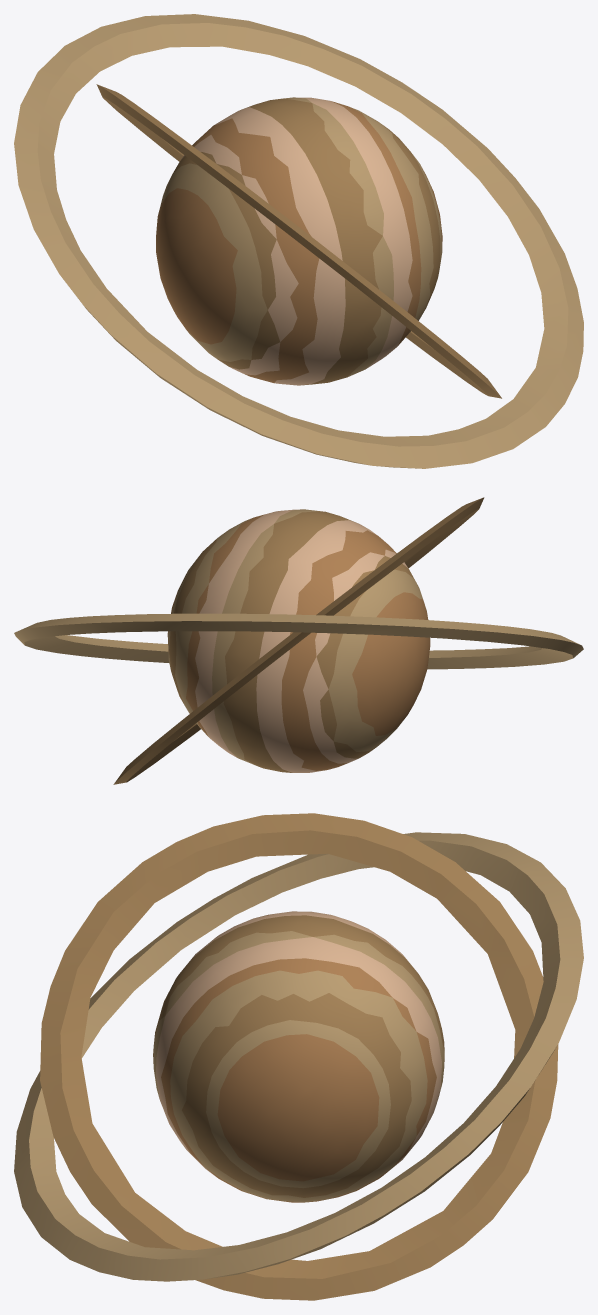
Rendered from quaternius-ultimate-space-planet-7-transformed.glb.
3 views of the same model, one above another, from view 1: azimuth 30°, elevation 25°; view 2: azimuth 150°, elevation 25°; view 3: azimuth 270°, elevation 25° (orthographic). The views are drawn at different scales.
Visible parts, largest first — view 1: Planet_7; view 2: Planet_7; view 3: Planet_7.
Part boxes in pixels (<box>): Planet_7: <box>14,14,583,468</box>; Planet_7: <box>14,497,583,784</box>; Planet_7: <box>14,813,583,1300</box>.
Size of the model in its own units: 4.81 by 2.87 by 4.46.
1 material, 1 textured.
